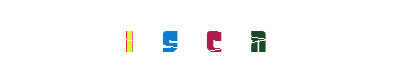C: (170, 0, 250, 80)
I: (92, 0, 172, 80)
N: (193, 0, 273, 80)
S: (129, 0, 209, 80)
